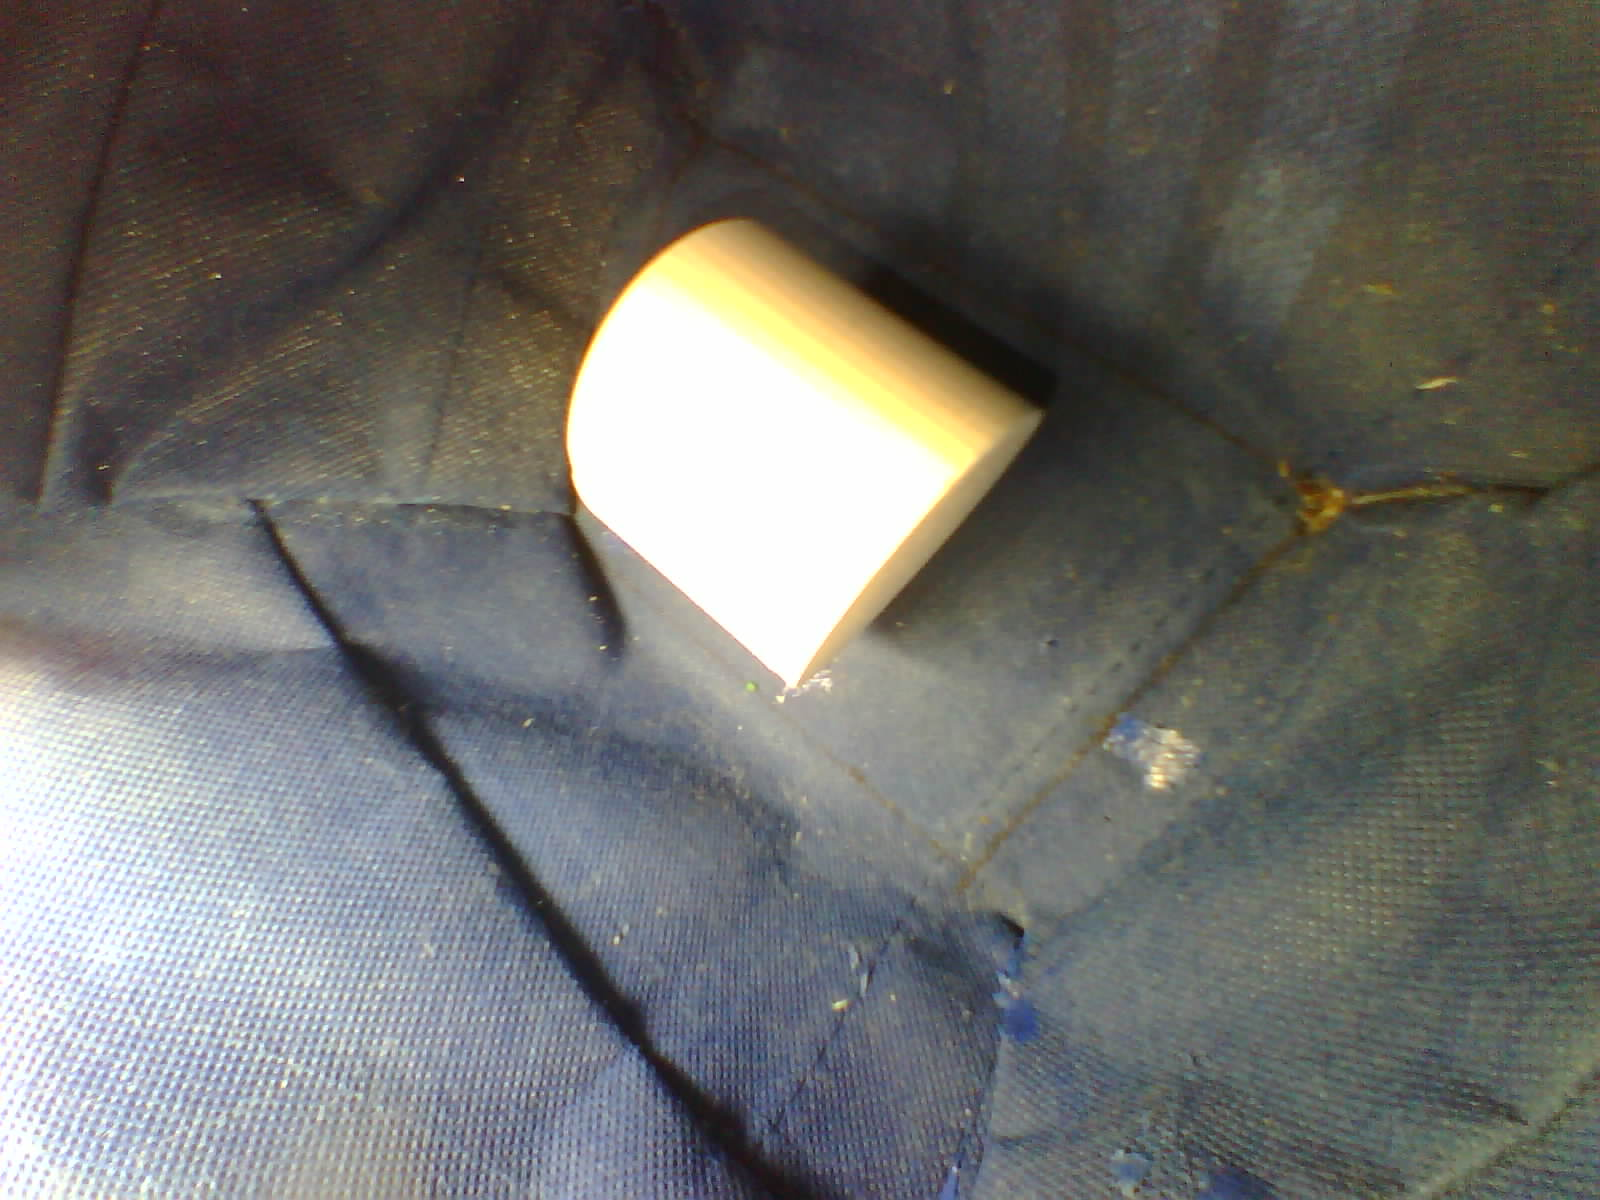cylinder-hard: (544, 207, 1080, 732)
